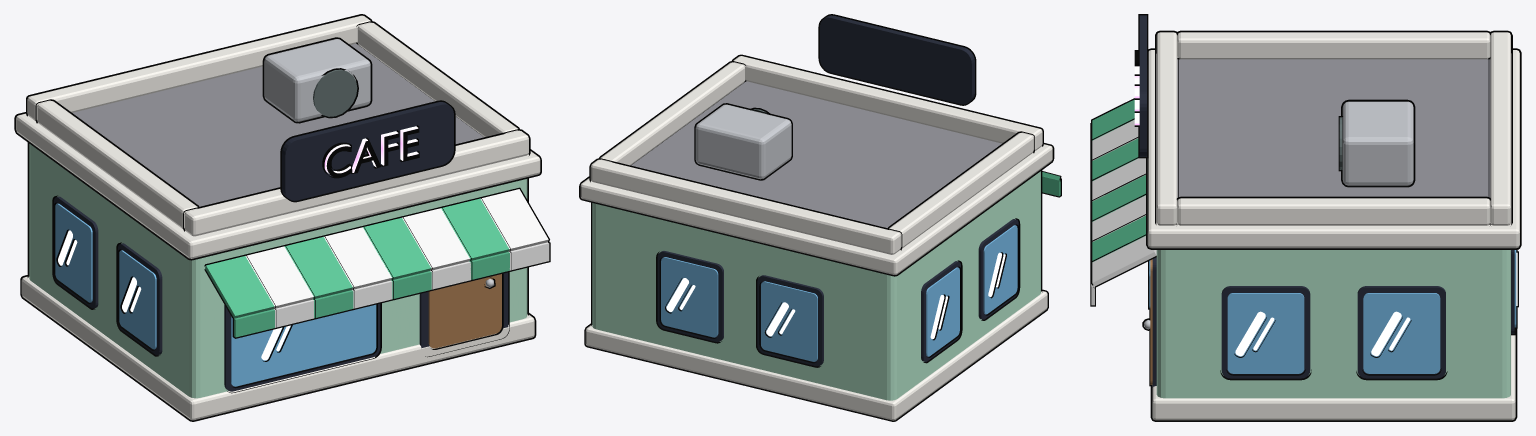
File: Building_Short_Cafe.fbx
3 views of the same model, side by side, from view 1: azimuth 30°, elevation 25°; view 2: azimuth 150°, elevation 25°; view 3: azimuth 270°, elevation 25° (orthographic). The views are drawn at different scales.
Parts seen in each view (by area): view 1: Building_Short_Cafe; view 2: Building_Short_Cafe; view 3: Building_Short_Cafe.
Boxes of the visible parts, left/top/right/bottom form: Building_Short_Cafe: left=14, top=14, right=550, bottom=421; Building_Short_Cafe: left=579, top=14, right=1061, bottom=421; Building_Short_Cafe: left=1090, top=14, right=1521, bottom=421.
Size of the model in its own units: 14.72 by 10.5 by 14.61.
